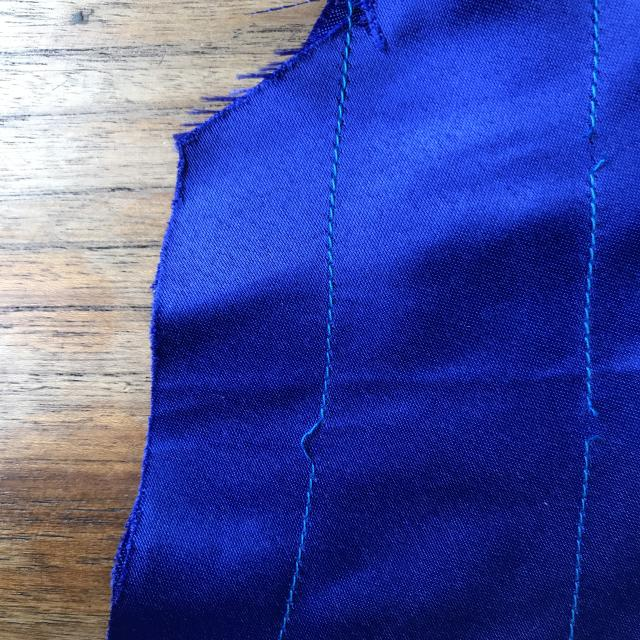broken: (552, 384, 624, 467), (568, 104, 620, 190)
good: (303, 137, 348, 247)
skip: (284, 400, 342, 484)
